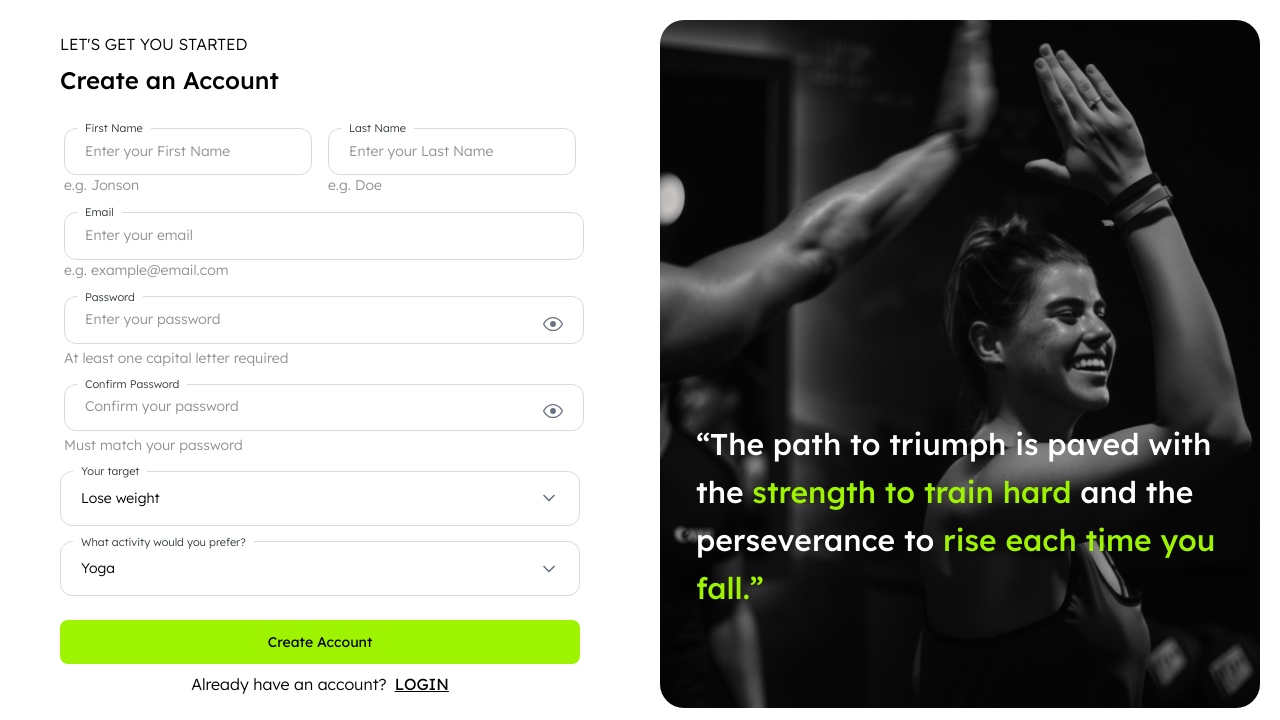
Test case: RegisterPage Component › validates form inputs and displays error messages
Click the button "Create Account": (320,642) [60,620,580,664]
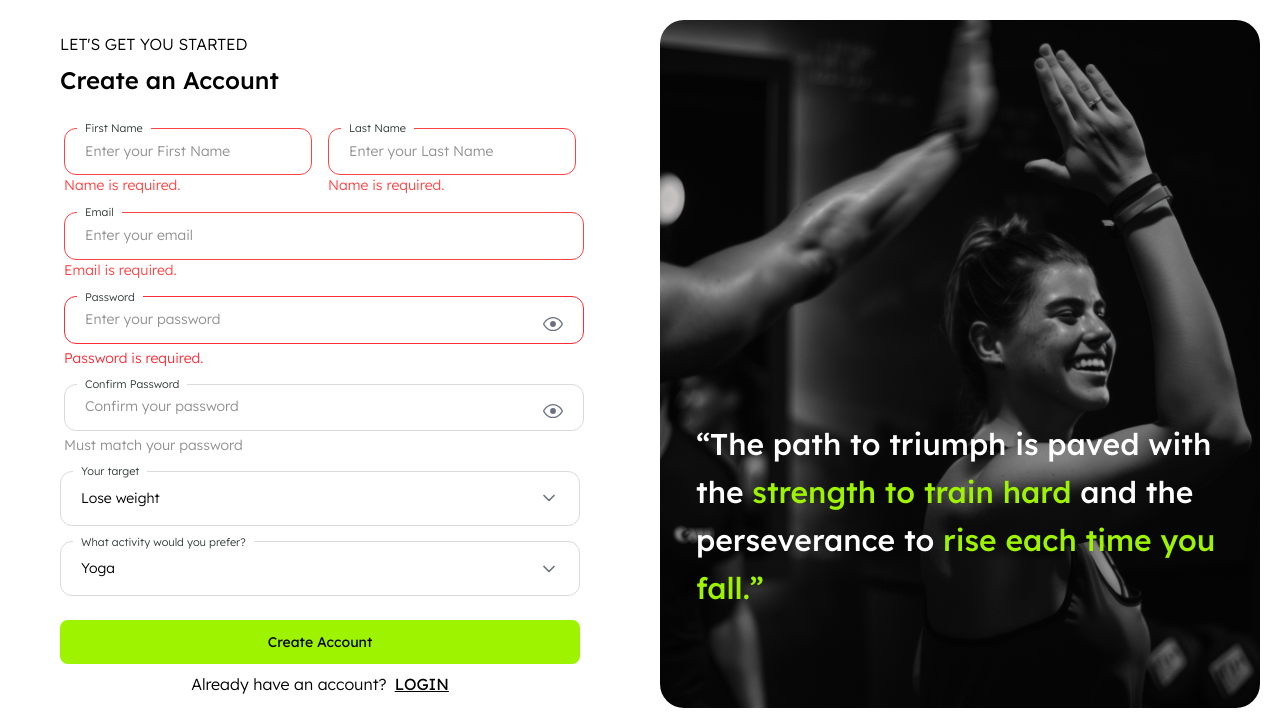
Check: the message "Password is required." is shown, box [64,349,203,367]
